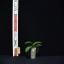leaf: (25, 46, 33, 53), (25, 41, 33, 46), (33, 42, 42, 46), (33, 44, 42, 48), (25, 43, 33, 47)
